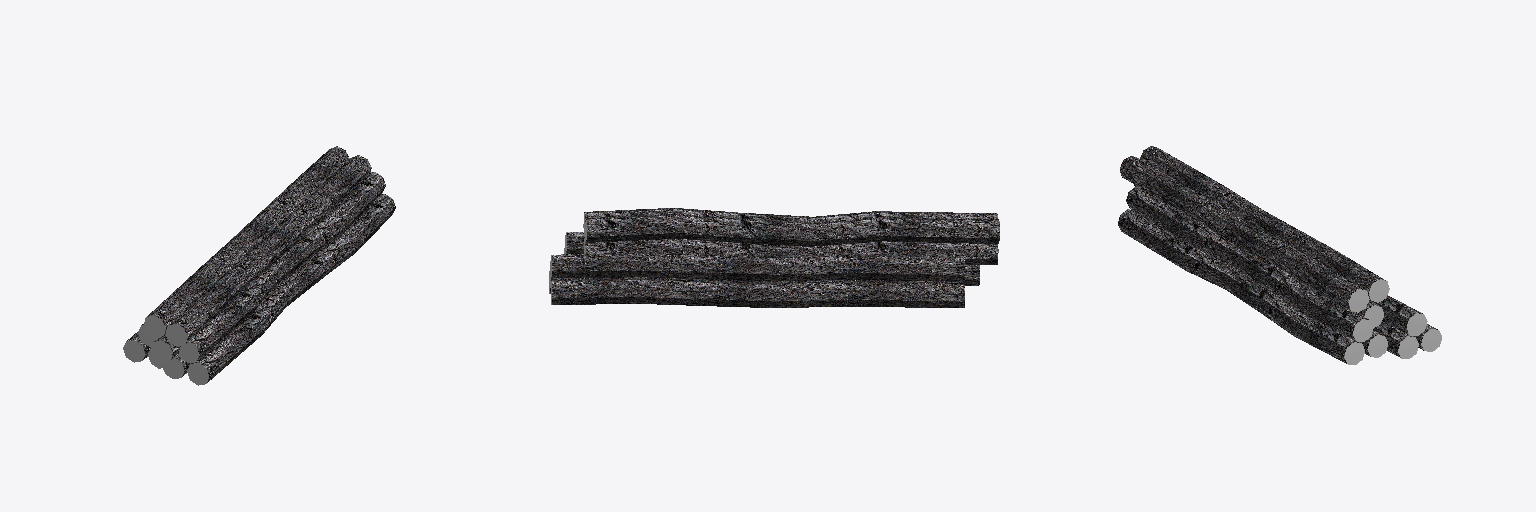
The picture shows the model from 3 angles: view 1: azimuth 30°, elevation 25°; view 2: azimuth 150°, elevation 25°; view 3: azimuth 270°, elevation 25°; orthographic projection.
Visible parts, largest first — view 1: log.002; view 2: log.002; view 3: log.002.
Part boxes in pixels (x1,y1,x2,y2): log.002: (123,146,395,385); log.002: (549,208,999,307); log.002: (1118,146,1441,364).
Bounding box in the file's own units: 15.93 × 3.68 × 13.02.
Materials: 6 (1 with a texture image).